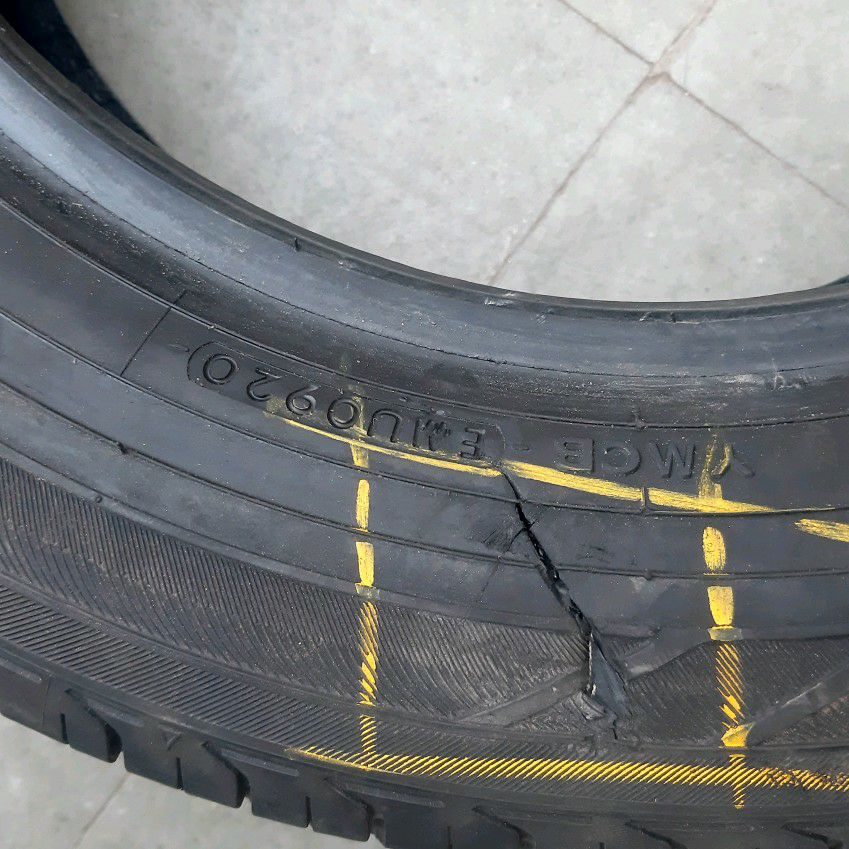cut: (490, 464, 610, 670)
